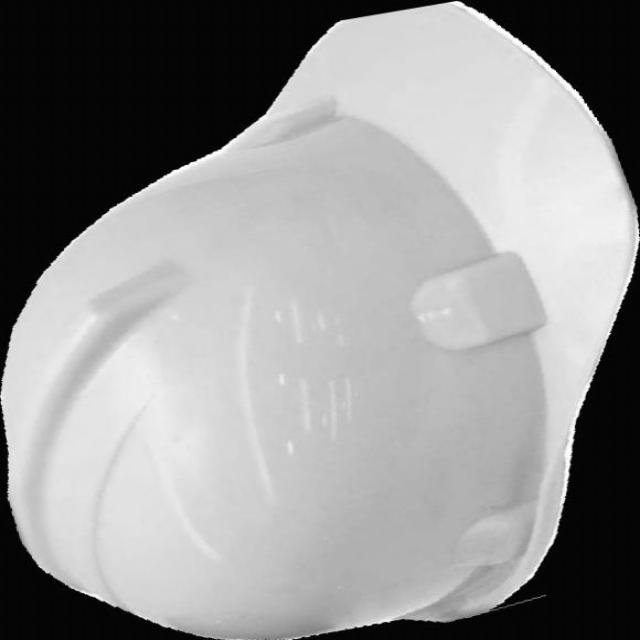construction helmet: (0, 1, 639, 640)
